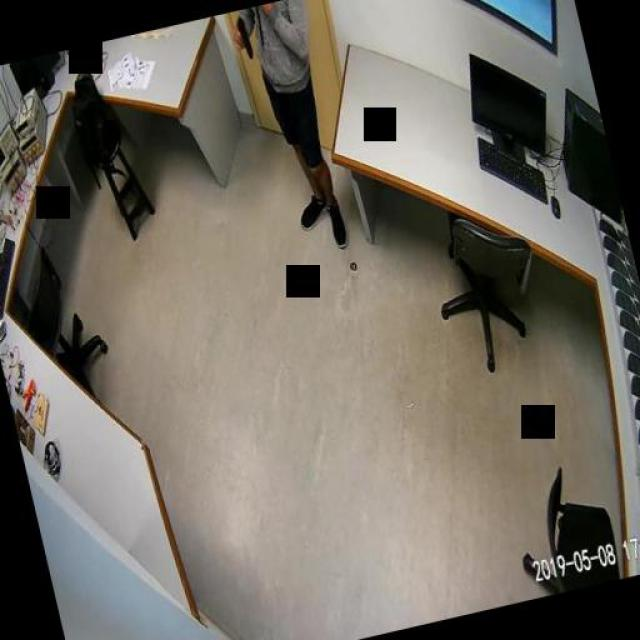gun: (226, 14, 254, 61)
